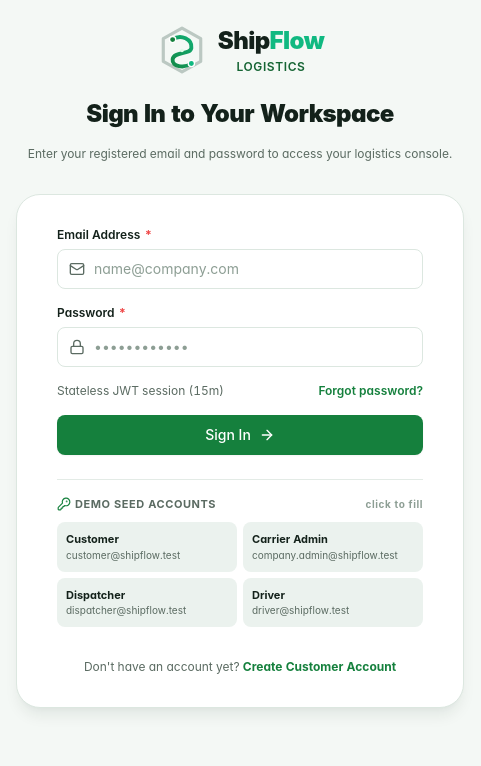
Test: LoginPage › shows error banner when backend returns 401
Type "user@shipflow.local" into the field labelled "Email Address *". click: [240, 269]
box: [57,249,423,289]
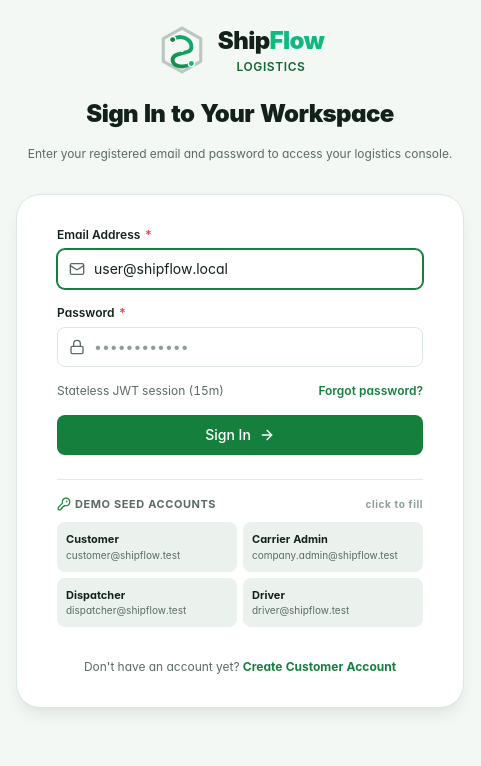
Type "WrongPassword!1" into the password field labelled "Password *". click: [240, 347]
box: [57,327,423,367]
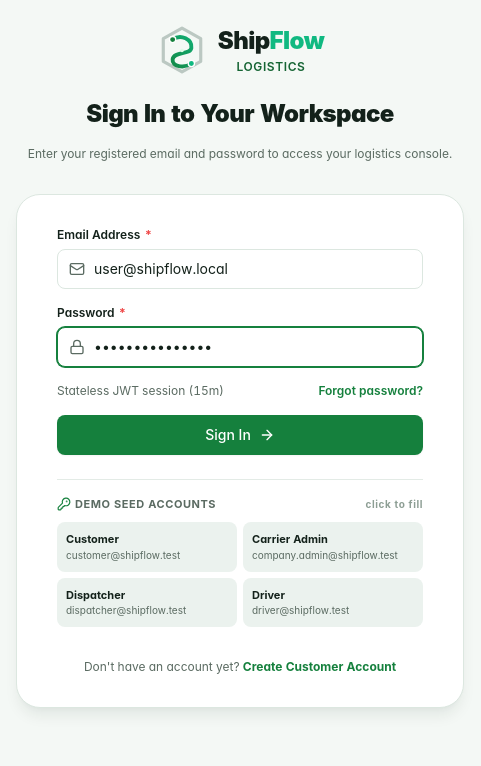
Click the button "Sign In". click: [240, 435]
box: [57,415,423,455]
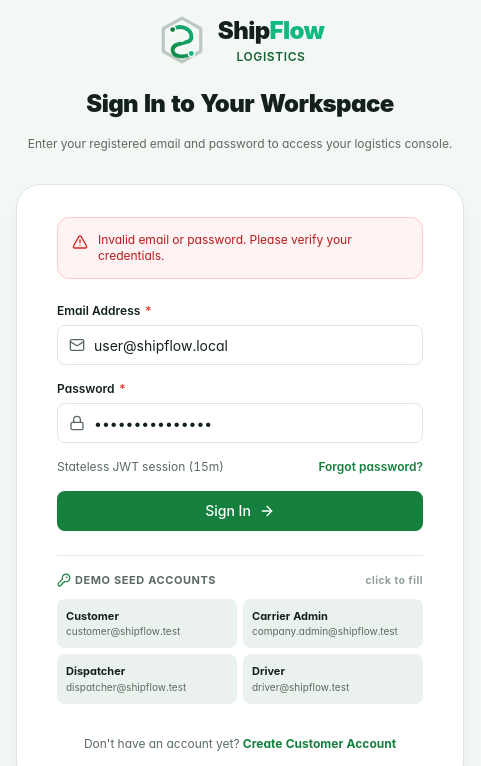
Expected: the text "Invalid email or password. Please verify your credentials." is shown, [98,232,352,263]
